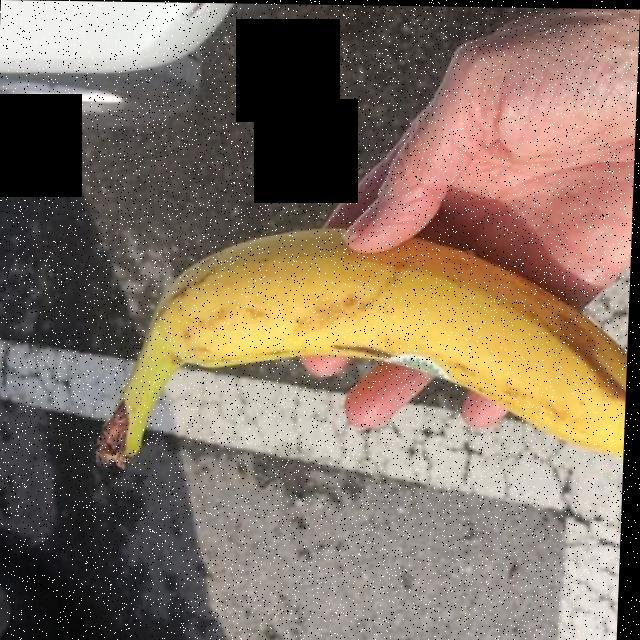banana: (120, 232, 625, 451)
